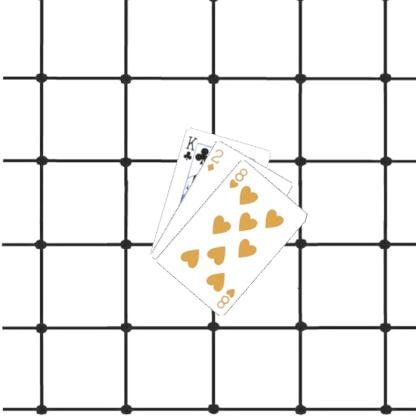2D: (204, 146, 225, 172)
8H: (214, 285, 237, 310), (227, 165, 249, 190)
KC: (180, 133, 200, 166)
